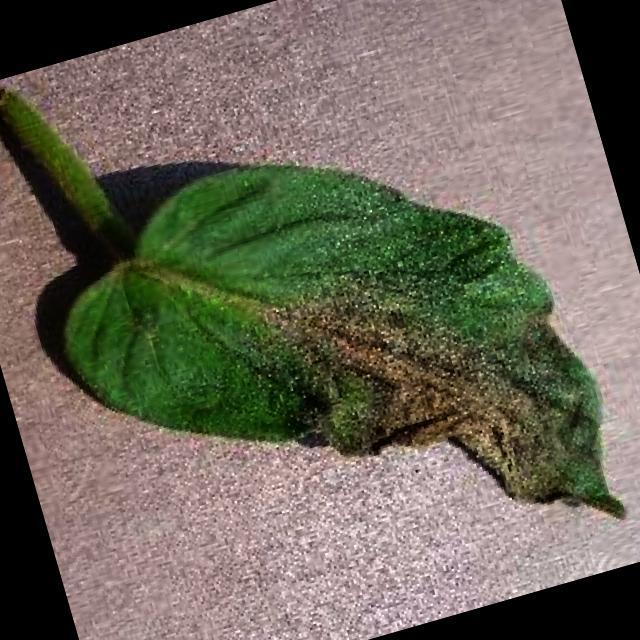Tomato late blight leaf: (31, 81, 636, 640)
